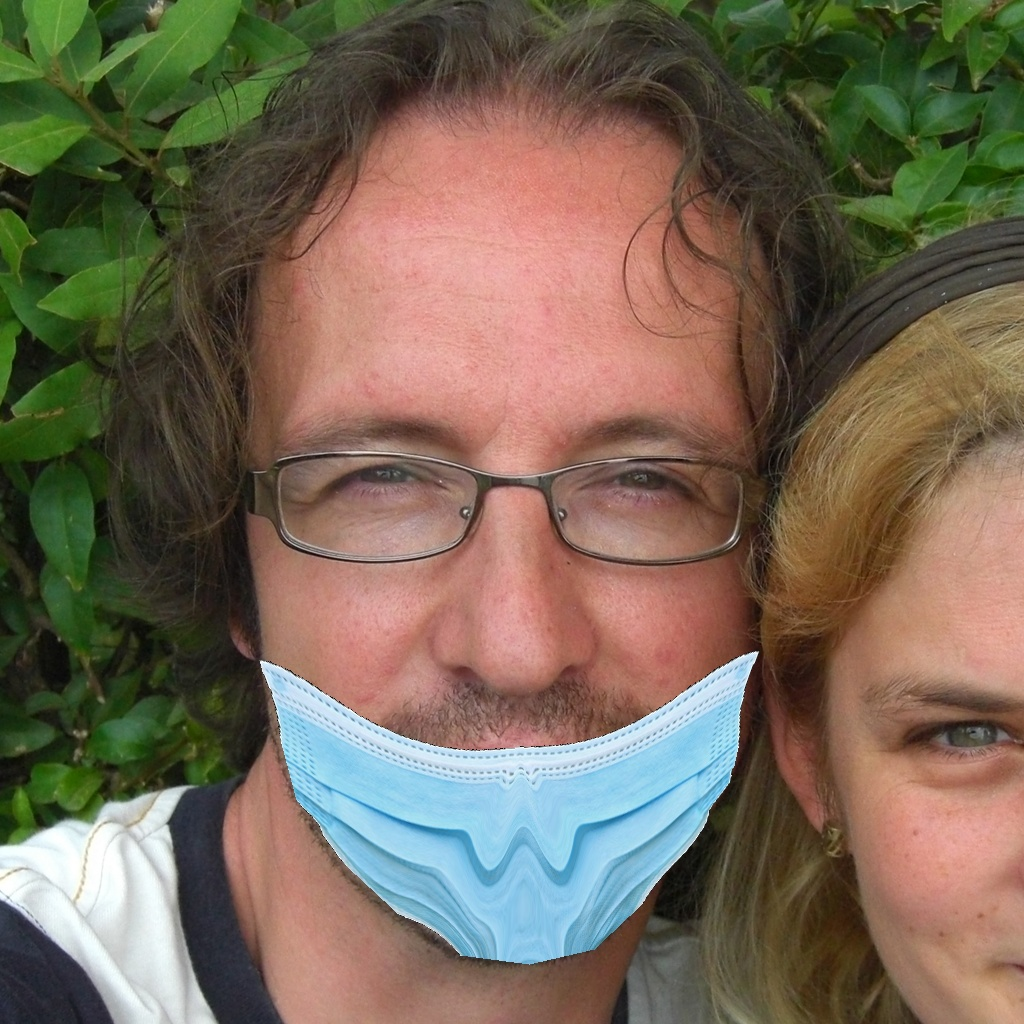mascarilla_mal_puesta: (229, 348, 727, 973)
